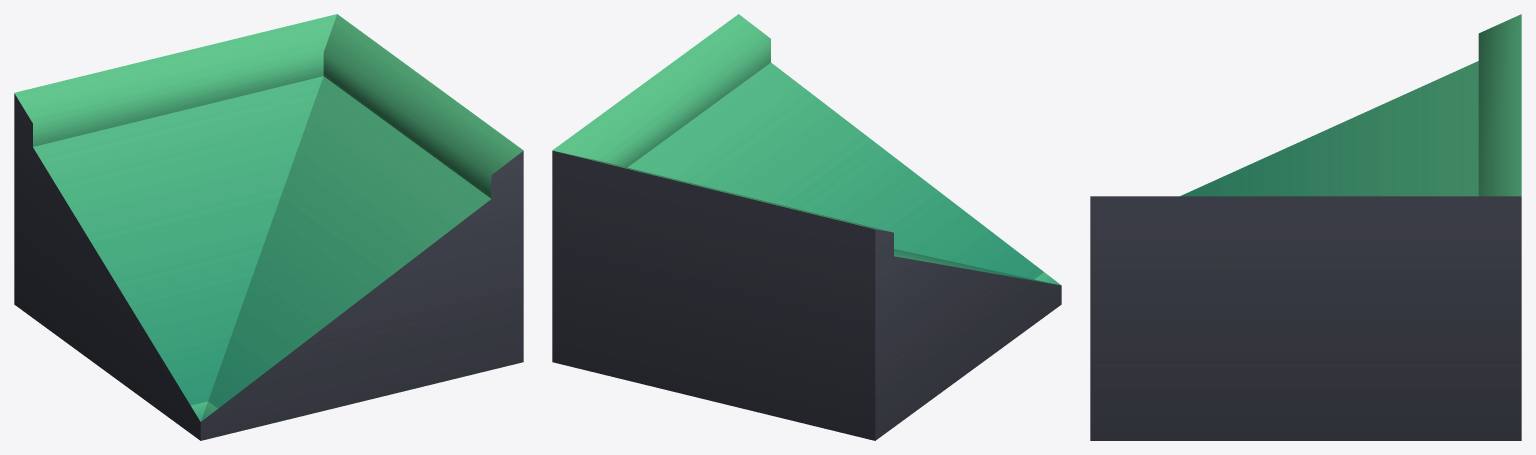
File: roof-corner-inner.glb
3 views of the same model, side by side, from view 1: azimuth 30°, elevation 25°; view 2: azimuth 150°, elevation 25°; view 3: azimuth 270°, elevation 25° (orthographic). The views are drawn at different scales.
Visible parts, largest first — view 1: roof-corner-inner; view 2: roof-corner-inner; view 3: roof-corner-inner.
Boxes of the visible parts, box(x1,y1,x2,y2) form: roof-corner-inner: box(14, 14, 523, 440); roof-corner-inner: box(552, 14, 1061, 440); roof-corner-inner: box(1090, 14, 1521, 440).
Bounding box in the file's own units: 1 × 0.6259 × 1.
Materials: 1 (1 with a texture image).
